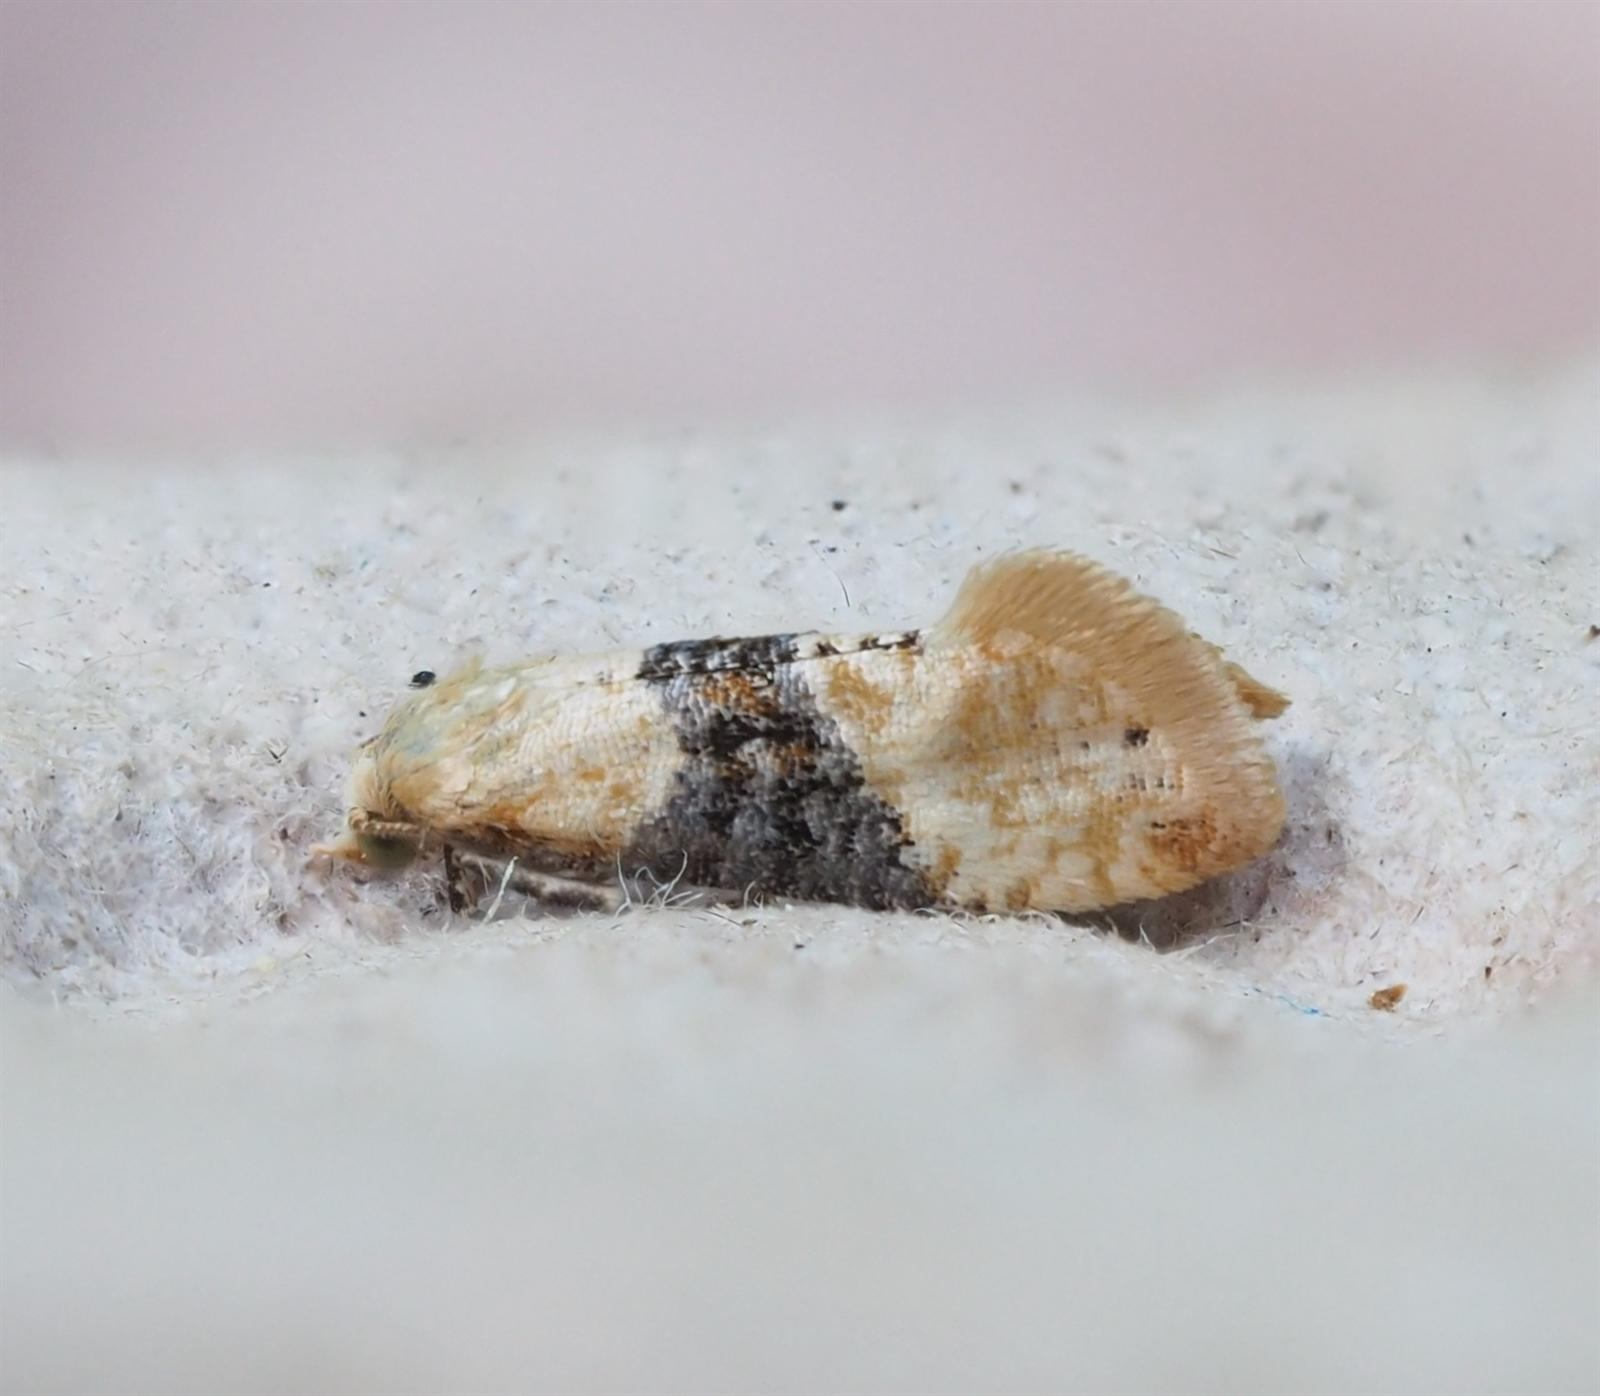Eupoecilia Ambiguella: (312, 540, 1295, 925)
